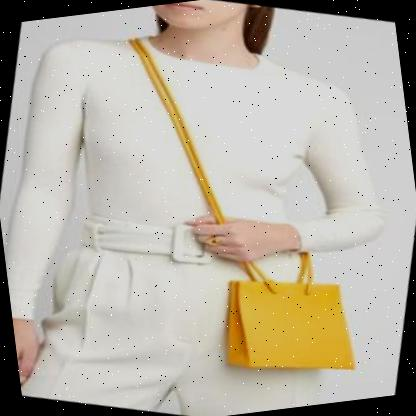bag: (207, 260, 367, 392)
